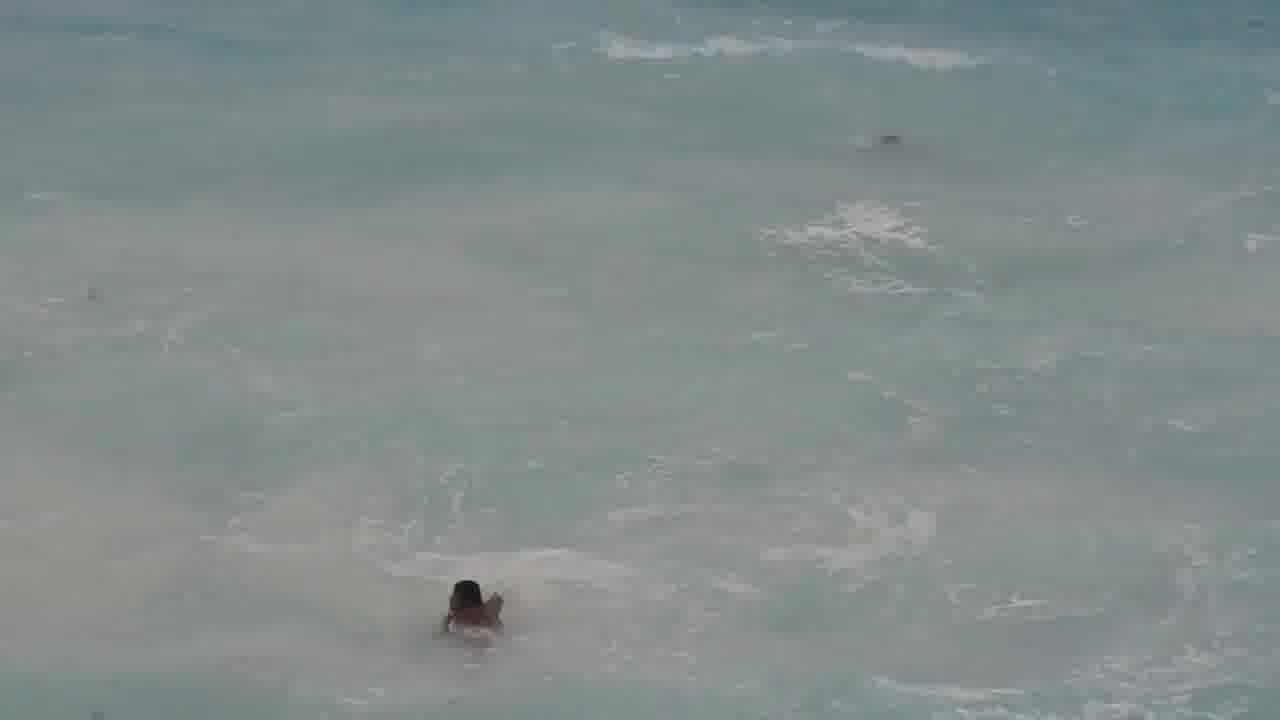swimmer: (436, 568, 496, 634), (862, 126, 902, 160)
